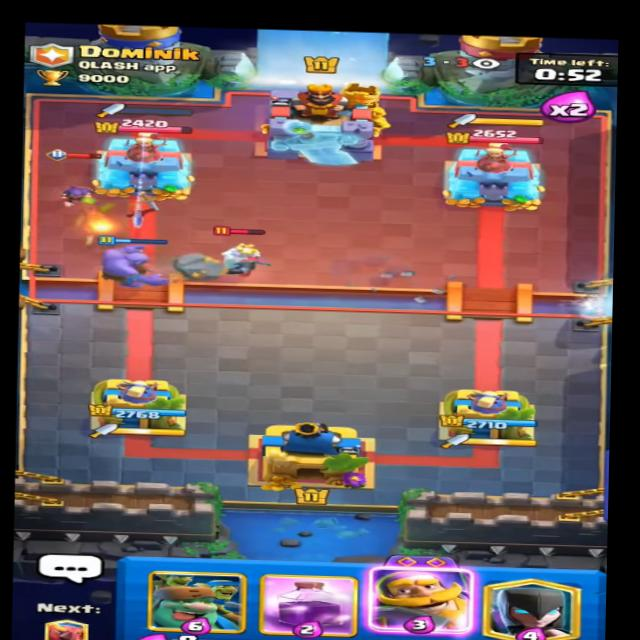evo-wizard: (45, 149, 106, 211)
royal-ghost: (197, 224, 273, 276)
